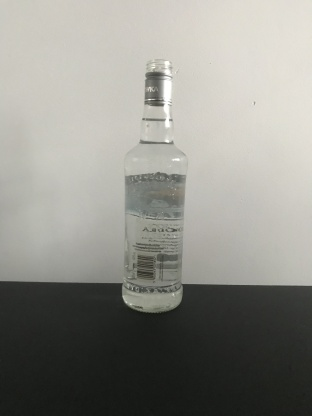nakretka: (142, 56, 174, 107)
